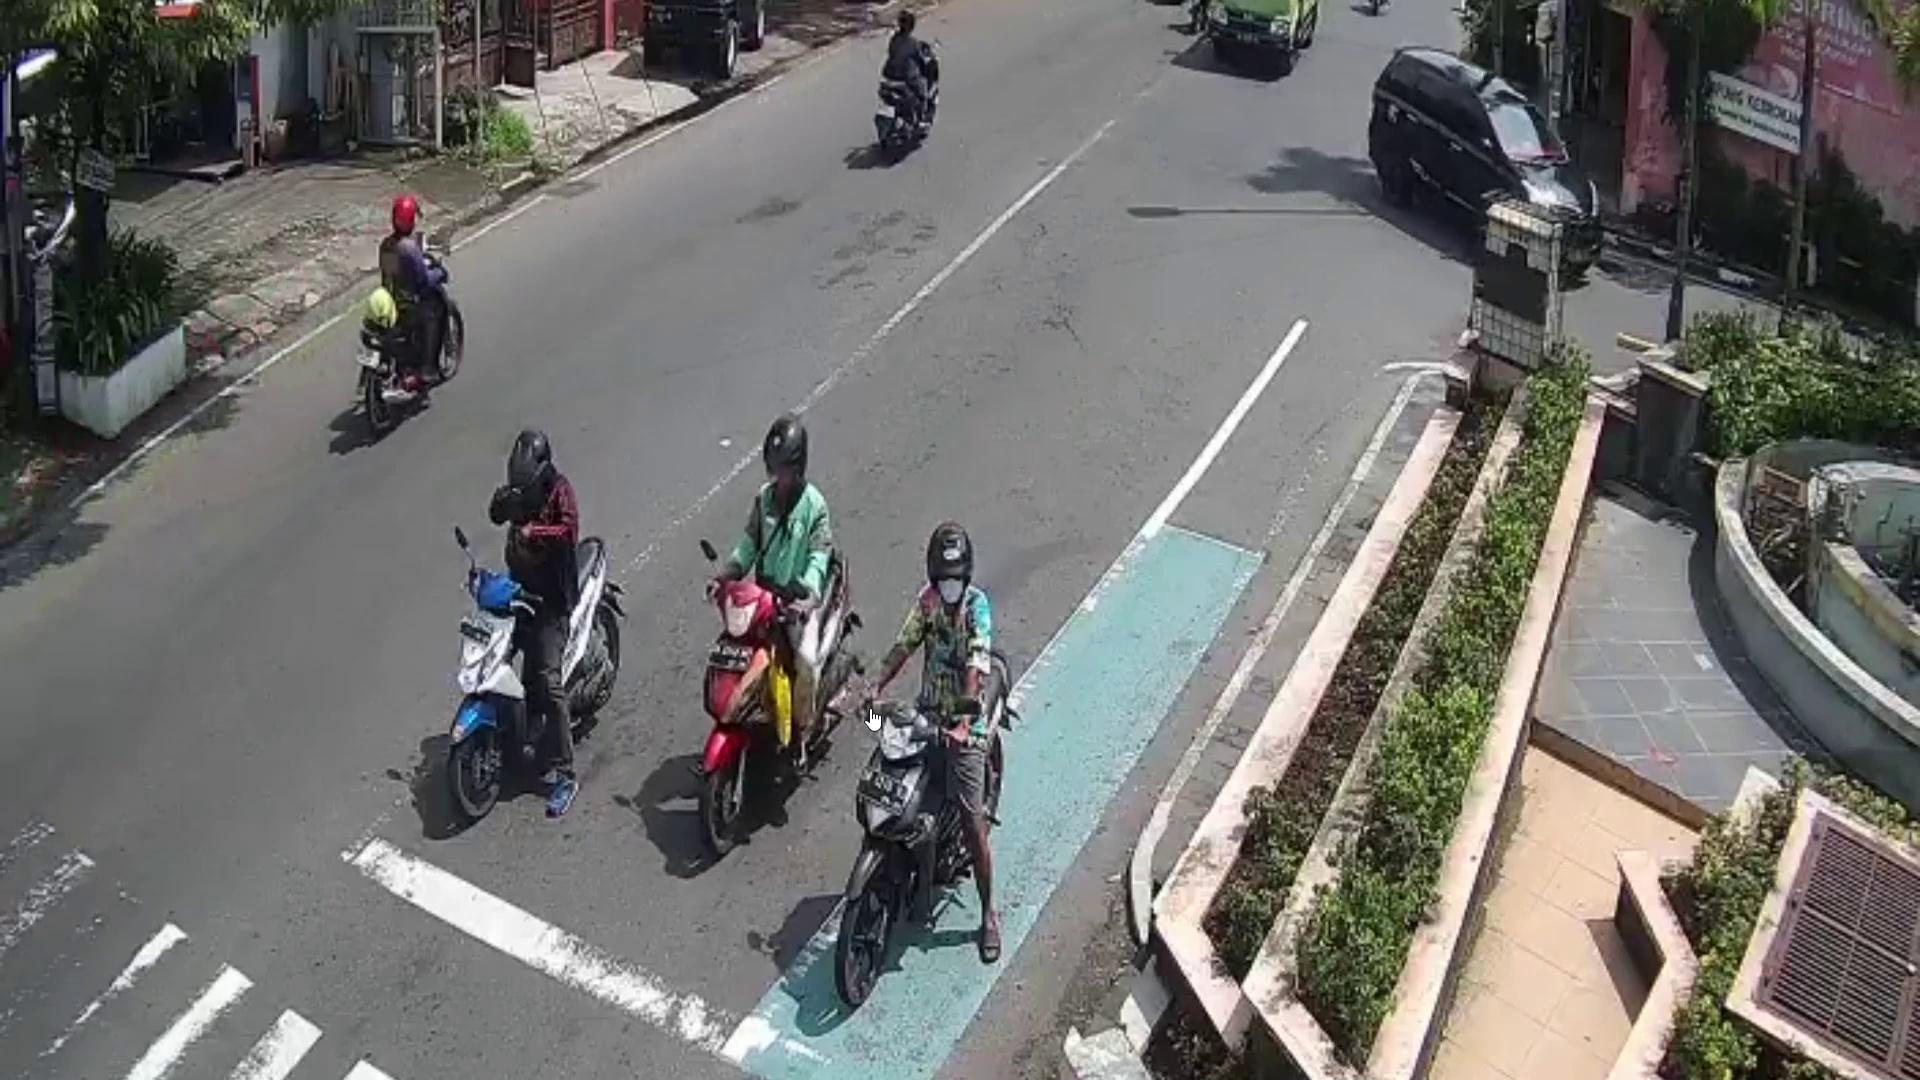car: (1367, 46, 1600, 284)
motorbike: (844, 650, 1023, 1006), (446, 535, 625, 823), (698, 535, 853, 852), (355, 252, 465, 438), (874, 40, 942, 165)
